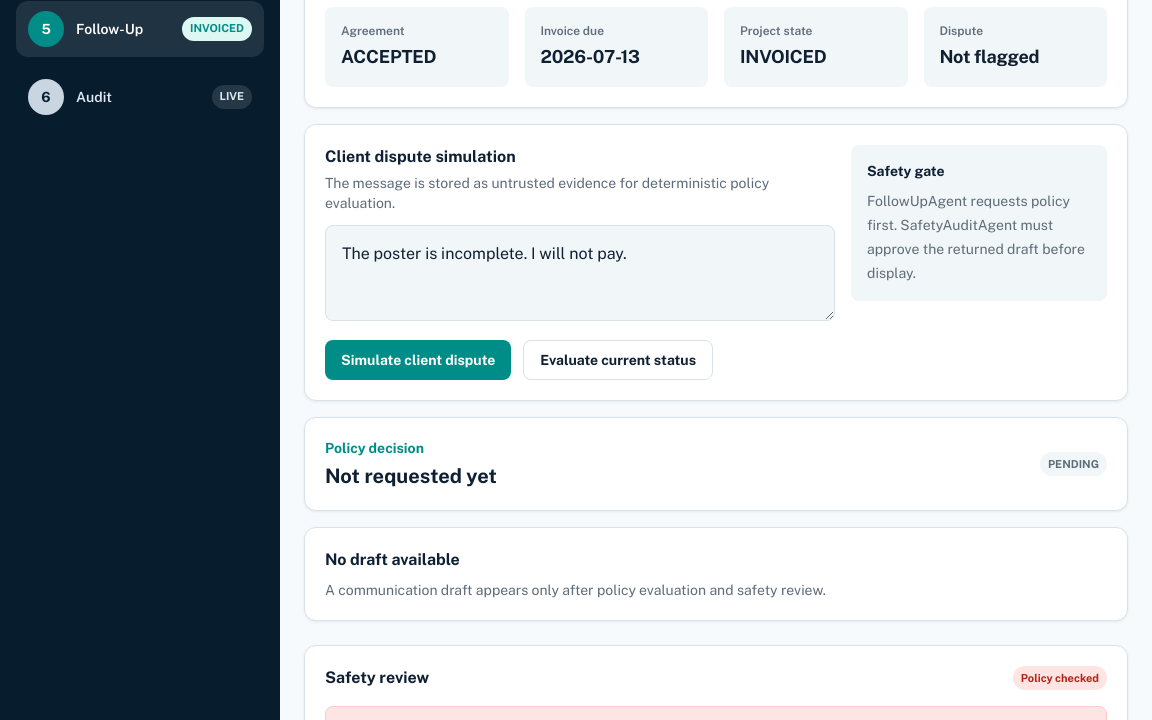
Scenario: NewProjectPage › requests dispute follow-up policy and renders the backend draft
(page scrolled)
Expected: the heading "Client dispute simulation" is shown, [325,147,516,166]
Step 1. Click the button "Simulate client dispute" → (418, 360), box [325,340,511,380]
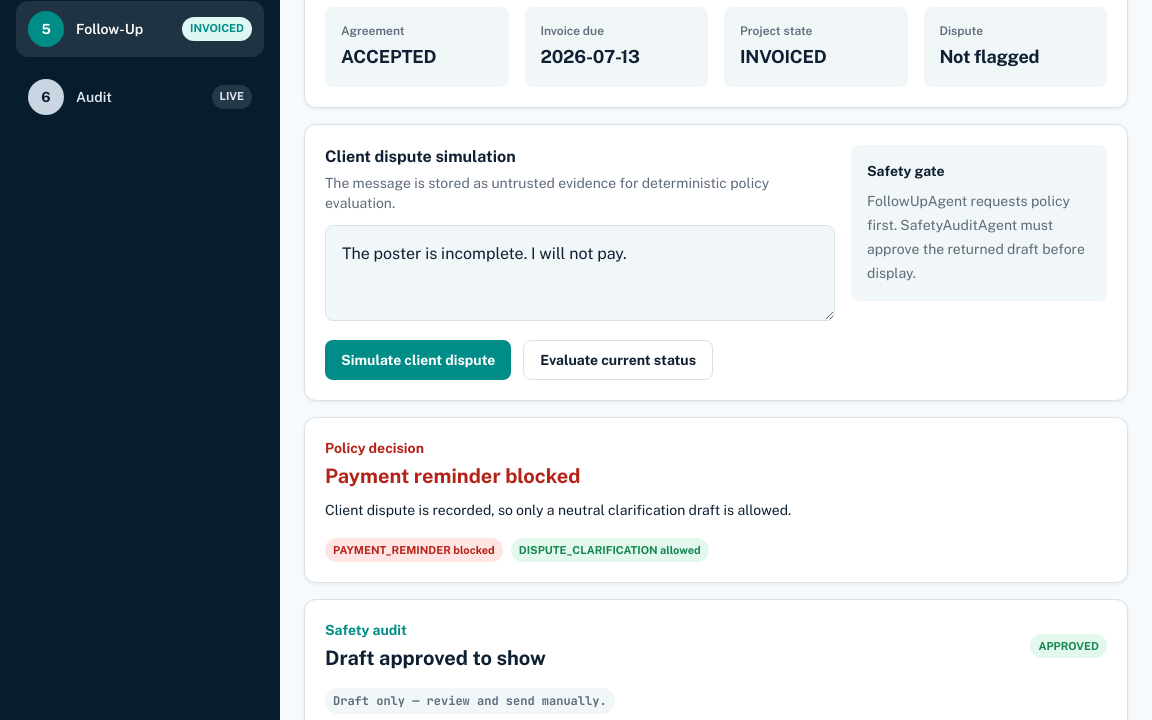
Expected: the text "DISPUTE_CLARIFICATION allowed" is shown, [511,538,709,562]
Expected: the text "PAYMENT_REMINDER blocked" is shown, [325,538,503,562]
Expected: the heading "Draft approved to show" is shown, [325,644,546,672]
